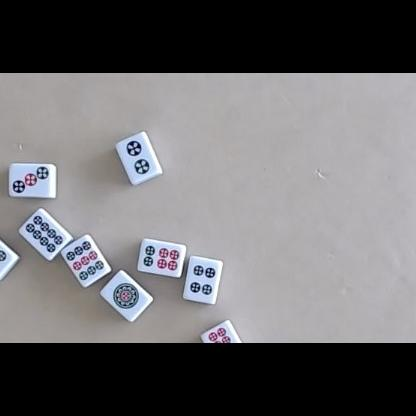1p: (113, 283, 140, 309)
2p: (126, 140, 151, 175)
3p: (12, 166, 49, 194)
4p: (190, 264, 216, 295)
5p: (0, 237, 7, 271)
6p: (142, 245, 180, 272)
7p: (207, 327, 243, 343)
8p: (25, 215, 64, 254)
9p: (66, 240, 105, 281)
